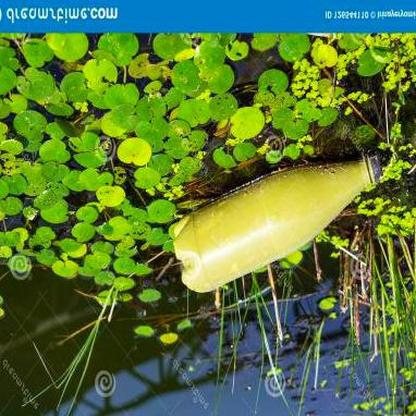plastic bottle: (173, 157, 384, 292)
